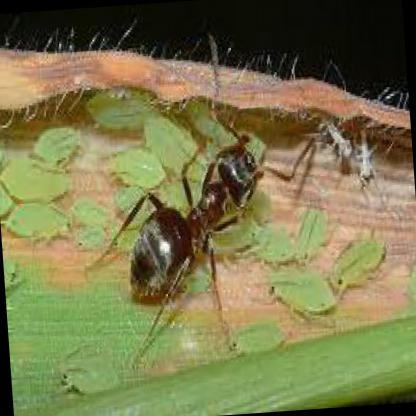schizaphis graminum: (0, 156, 70, 200), (331, 239, 389, 291), (269, 272, 337, 313), (107, 146, 165, 185), (9, 204, 75, 235), (229, 323, 288, 351)
